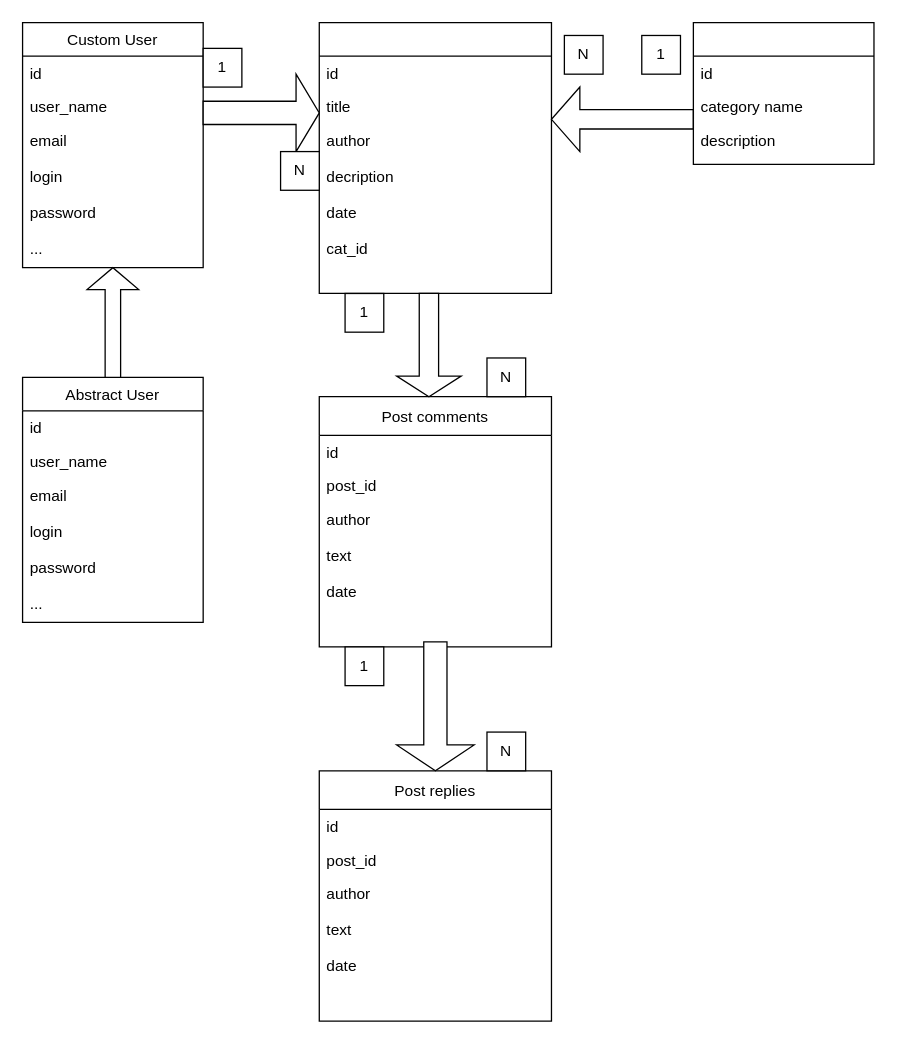
The diagram is 897 pixels wide and 1047 high, and some of its shapes have lost their labels. Each missing label, with the box of its shape:
Forum Category: (692, 21, 874, 164)
Forum Posted: (318, 21, 551, 293)
